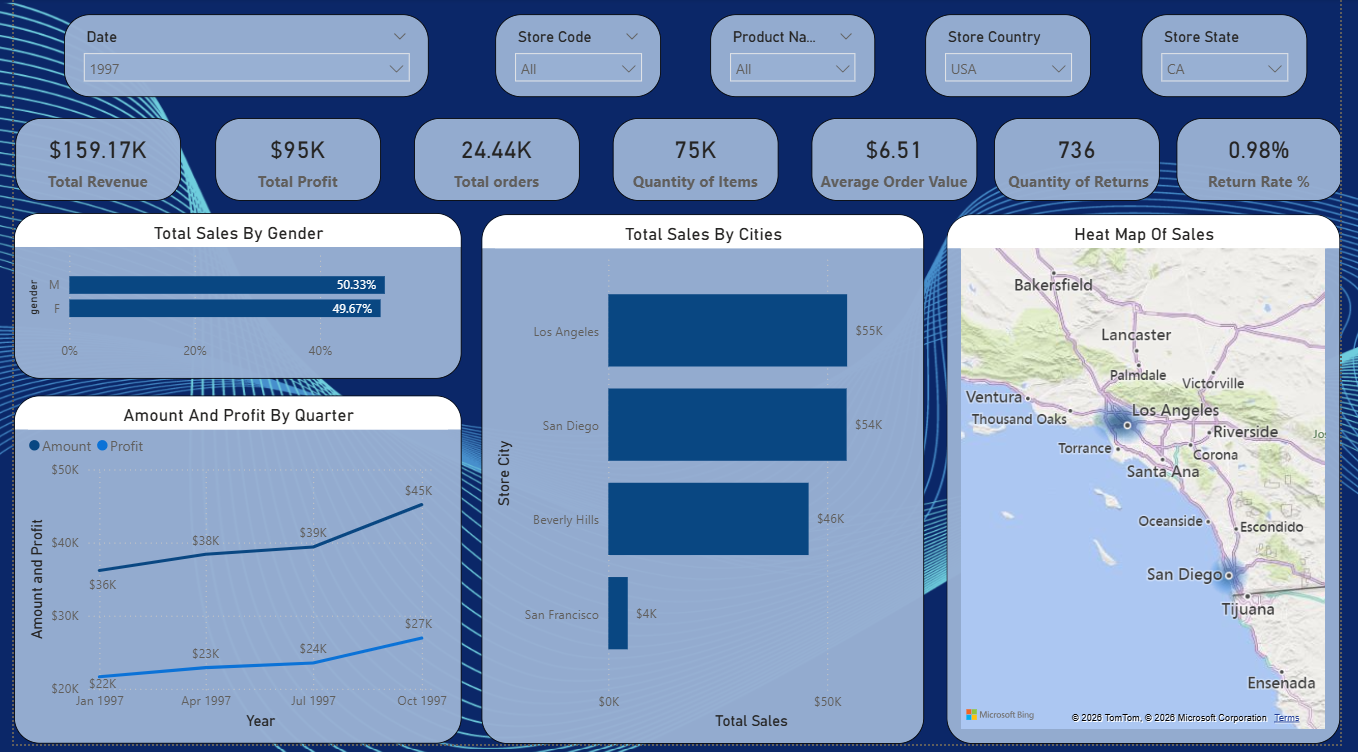

Layout of this report page (visuals, bound fields, positions):
{"tool":"powerbi","page":{"name":"Page 1","canvas":[1280,720],"ordinal":0},"visuals":[{"type":"slicer","fields":{"Values":["Calendar.Date.Variation.Date Hierarchy.Year","Calendar.Date.Variation.Date Hierarchy.Quarter","Calendar.Date.Variation.Date Hierarchy.Month","Calendar.Date.Variation.Date Hierarchy.Day"]},"box":[48,16,352,80],"z":0},{"type":"card","fields":{"Values":["Sum(Fact_sales.Amount)"]},"box":[1.6,115.8,160,80],"z":4000},{"type":"card","fields":{"Values":["Sum(Fact_sales.Profit)"]},"box":[193.6,115.8,160,80],"z":5000},{"type":"card","fields":{"Values":["CountNonNull(Fact_sales.transaction_date)"]},"box":[385.6,115.8,160,80],"z":6000},{"type":"slicer","fields":{"Values":["Stores.store_name"]},"box":[464,16,160,80],"z":7000},{"type":"slicer","fields":{"Values":["Products.product_name"]},"box":[672,16,159,80],"z":8000},{"type":"slicer","fields":{"Values":["Stores.store_state"]},"box":[1088,16,160,80],"z":9000},{"type":"slicer","fields":{"Values":["Stores.store_country"]},"box":[880,16,160,80],"z":10000},{"type":"card","fields":{"Values":["Fact_sales.Avrage Order Value"]},"box":[769.6,115.8,160,80],"z":11000},{"type":"card","fields":{"Values":["Sum(Returns.quantity)"]},"box":[945.6,115.8,160,80],"z":12000},{"type":"card","fields":{"Values":["Returns.Return Rate %"]},"box":[1121.6,115.8,160,80],"z":13000},{"type":"card","fields":{"Values":["Sum(Fact_sales.quantity)"]},"box":[577.6,115.8,160,80],"z":14000},{"type":"clusteredBarChart","title":"Total Sales By Cities","fields":{"Y":["Sum(Fact_sales.Amount)"],"Category":["Stores.store_city"]},"box":[451.2,208.7,427.1,511.5],"z":15000},{"type":"lineChart","title":"Amount And Profit By Quarter","fields":{"Category":["Calendar.Date.Variation.Date Hierarchy.Year","Calendar.Date.Variation.Date Hierarchy.Quarter"],"Y":["Sum(Fact_sales.Amount)","Sum(Fact_sales.Profit)"]},"box":[0,384,432,336],"z":16000},{"type":"map","title":"Heat Map Of Sales","fields":{"Size":["Sum(Fact_sales.Amount)"],"Category":["Stores.store_city"]},"box":[900,208.7,380,511.5],"z":17000},{"type":"barChart","title":"Total Sales By Gender","fields":{"Y":["Sum(Fact_sales.Amount)"],"Category":["Customers.gender"]},"box":[0,208,432,160],"z":18000}]}

Visuals, with their boxes in screenshot pixels (x1, y1, x2, y2), scaled from the page's 1280x720 canvas onto the 1358x752 screenshot:
slicer - Calendar.Date.Variation.Date Hierarchy.Year x Calendar.Date.Variation.Date Hierarchy.Quarter: [51, 17, 424, 100]
card - Sum(Fact_sales.Amount): [2, 121, 171, 205]
card - Sum(Fact_sales.Profit): [205, 121, 375, 205]
card - CountNonNull(Fact_sales.transaction_date): [409, 121, 579, 205]
slicer - Stores.store_name: [492, 17, 662, 100]
slicer - Products.product_name: [713, 17, 882, 100]
slicer - Stores.store_state: [1154, 17, 1324, 100]
slicer - Stores.store_country: [934, 17, 1103, 100]
card - Fact_sales.Avrage Order Value: [816, 121, 986, 205]
card - Sum(Returns.quantity): [1003, 121, 1173, 205]
card - Returns.Return Rate %: [1190, 121, 1357, 205]
card - Sum(Fact_sales.quantity): [613, 121, 783, 205]
"Total Sales By Cities" clusteredBarChart: [479, 218, 932, 751]
"Amount And Profit By Quarter" lineChart: [0, 401, 458, 751]
"Heat Map Of Sales" map: [955, 218, 1357, 751]
"Total Sales By Gender" barChart: [0, 217, 458, 384]
